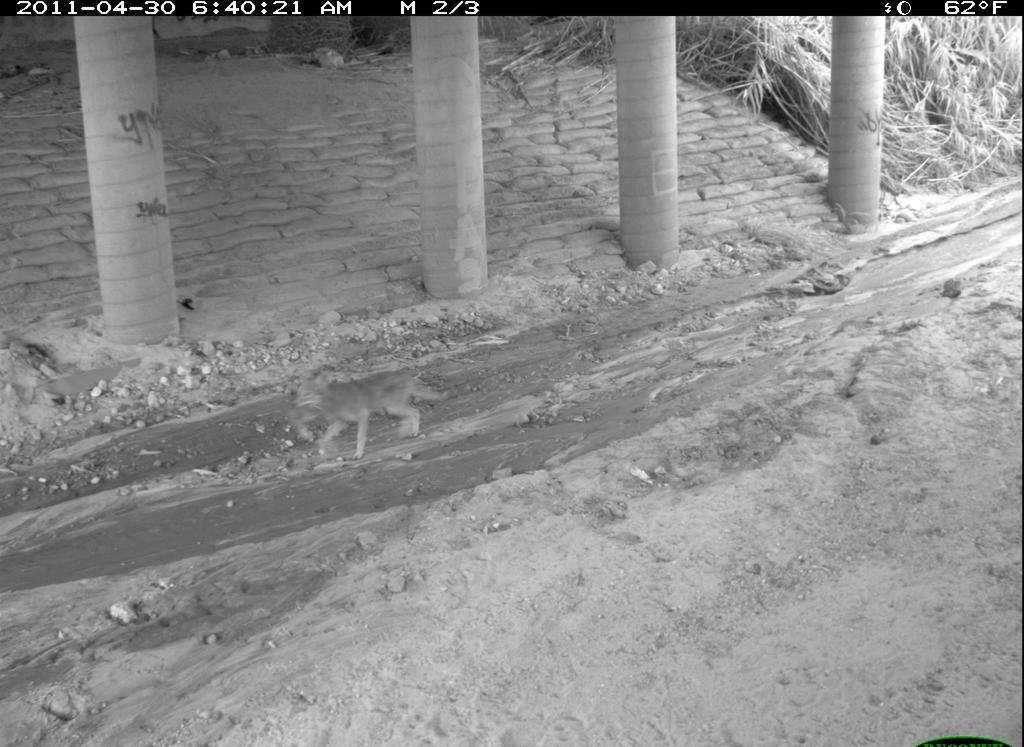coyote: (555, 727, 914, 747)
